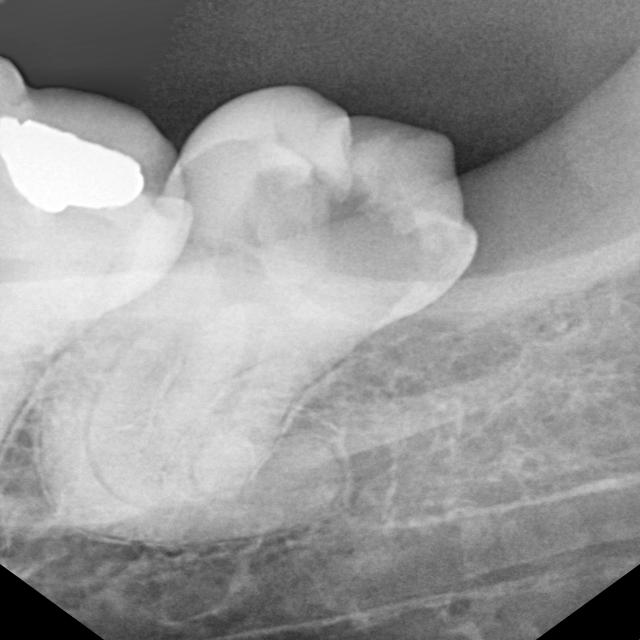Badly Decayed: (49, 93, 464, 525)
Restoration: (0, 55, 188, 245)
